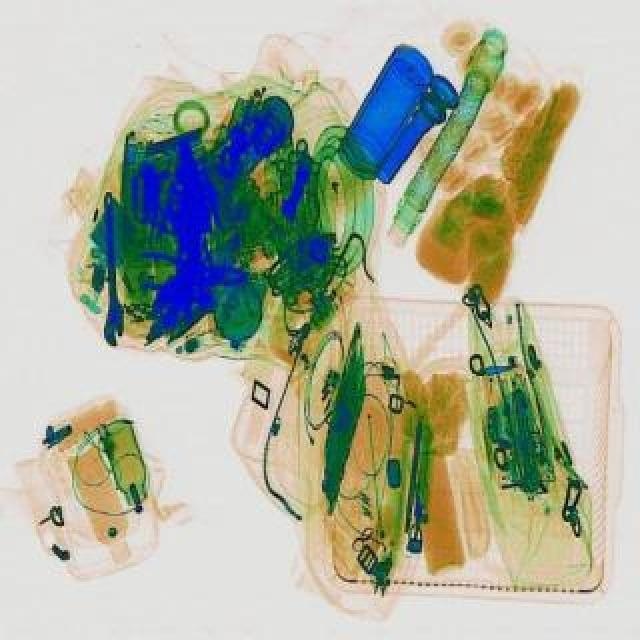scissors: (96, 192, 126, 344)
